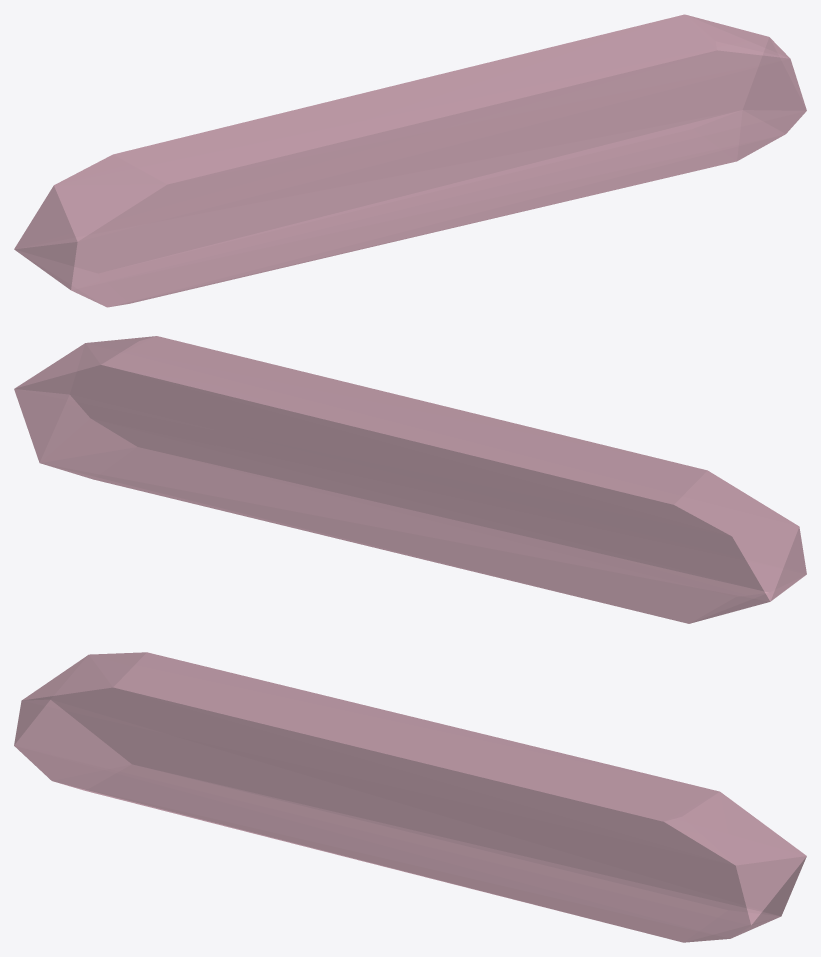
The picture shows the model from 3 angles, top to bottom: view 1: azimuth 30°, elevation 25°; view 2: azimuth 150°, elevation 25°; view 3: azimuth 330°, elevation 25°; orthographic projection.
Visible parts, largest first — view 1: Shape_IndexedFaceSet.165_Shape_IndexedFaceSet.594; view 2: Shape_IndexedFaceSet.165_Shape_IndexedFaceSet.594; view 3: Shape_IndexedFaceSet.165_Shape_IndexedFaceSet.594.
Boxes of the visible parts, bbox=[...] form: Shape_IndexedFaceSet.165_Shape_IndexedFaceSet.594: bbox=[14, 14, 806, 307]; Shape_IndexedFaceSet.165_Shape_IndexedFaceSet.594: bbox=[14, 336, 806, 623]; Shape_IndexedFaceSet.165_Shape_IndexedFaceSet.594: bbox=[14, 652, 806, 942].
Bounding box in the file's own units: 0.3469 × 0.0511 × 0.0376.
